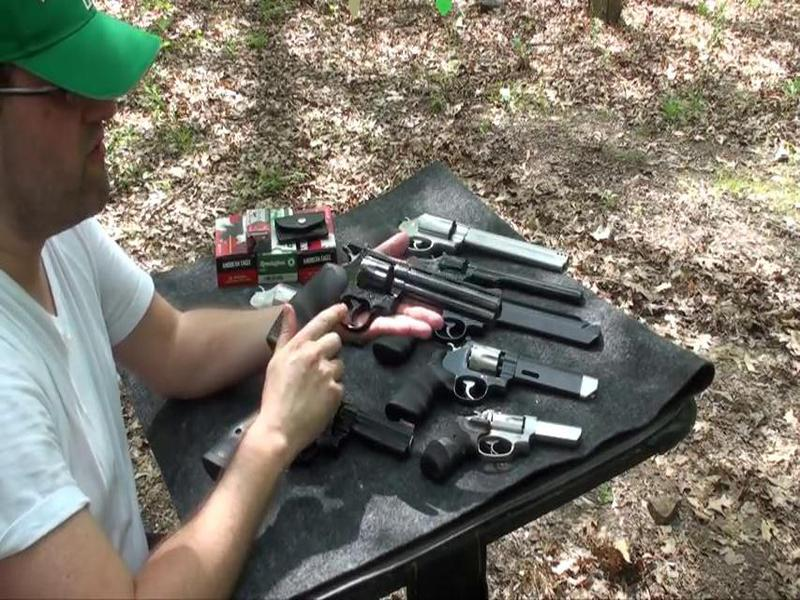Revolver: (254, 237, 506, 370)
